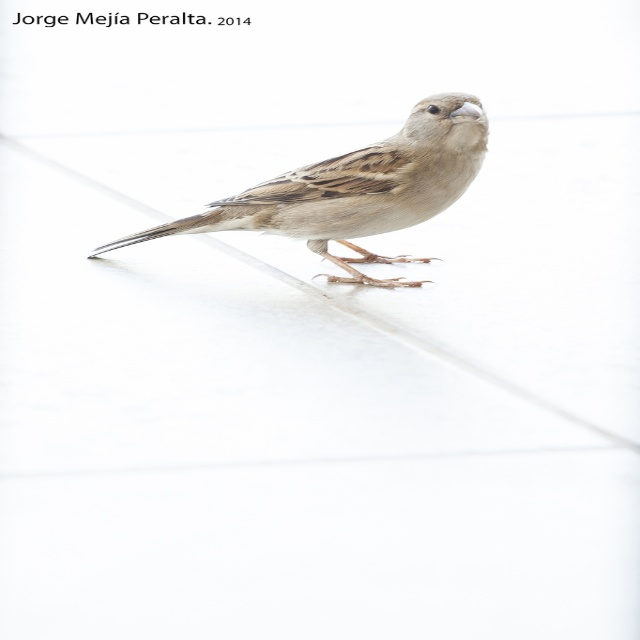Sparrow: (85, 88, 486, 286)
